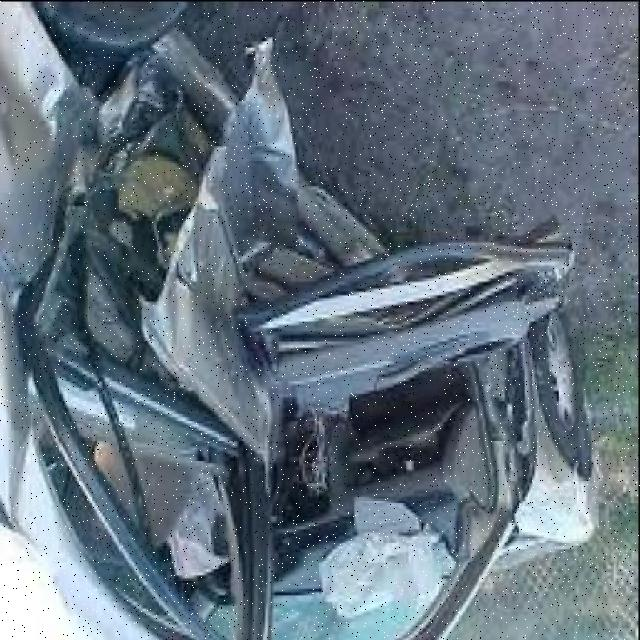damage: (1, 3, 580, 636)
